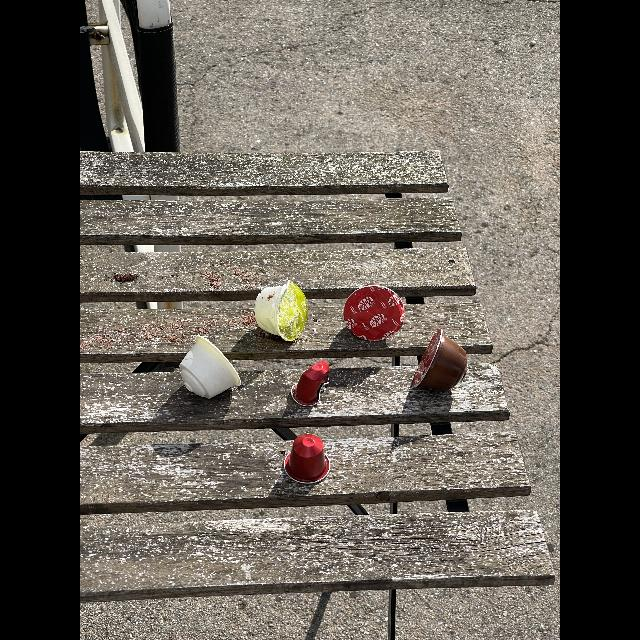damaged_capsule: (338, 280, 412, 342), (248, 278, 312, 346), (286, 358, 336, 412)
intact_capsule: (406, 325, 472, 399), (174, 334, 243, 404), (278, 432, 336, 488)
